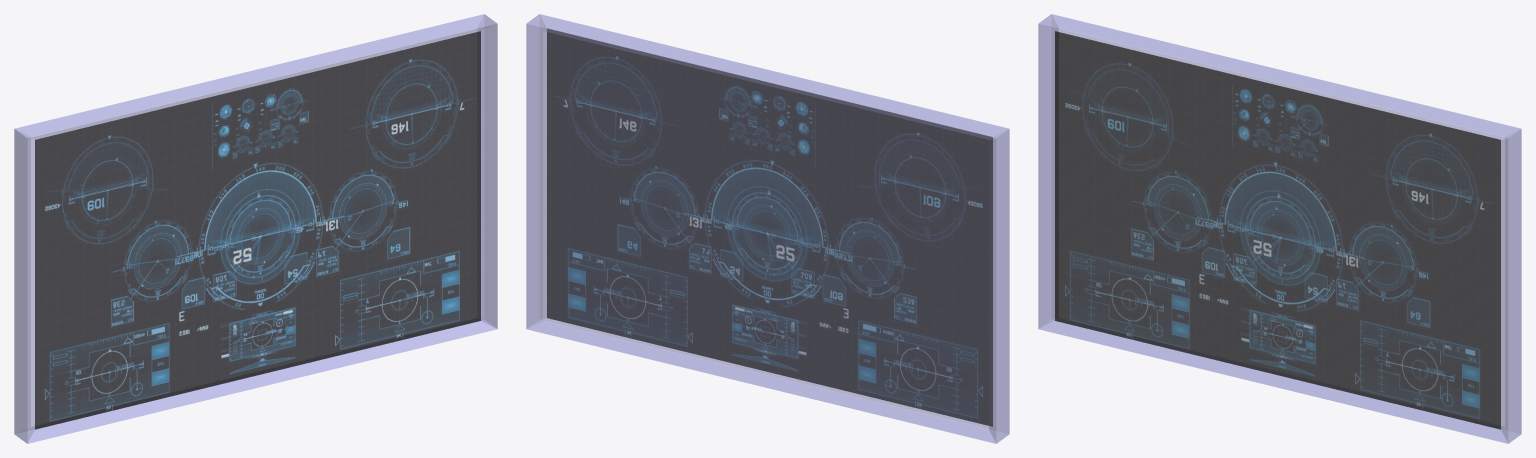
3 views of the same model, side by side, from view 1: azimuth 30°, elevation 25°; view 2: azimuth 150°, elevation 25°; view 3: azimuth 330°, elevation 25° (orthographic).
Visible parts, largest first — view 1: pCube4; view 2: pCube4; view 3: pCube4.
Boxes of the visible parts, box(x1,y1,x2,y2) form: pCube4: box(14, 14, 497, 443); pCube4: box(526, 14, 1009, 443); pCube4: box(1038, 14, 1521, 443).
Size of the model in its own units: 14.76 by 9.17 by 0.7175.
3 materials, 1 textured.
